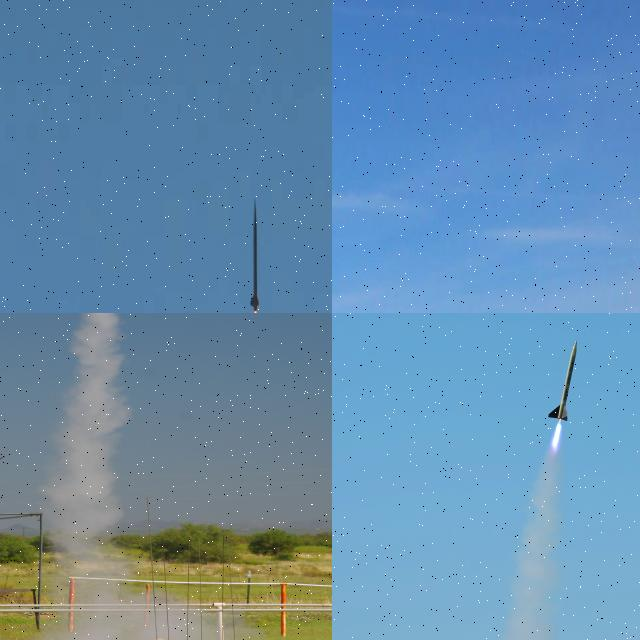Rocket: (547, 340, 577, 422), (250, 197, 259, 313)
